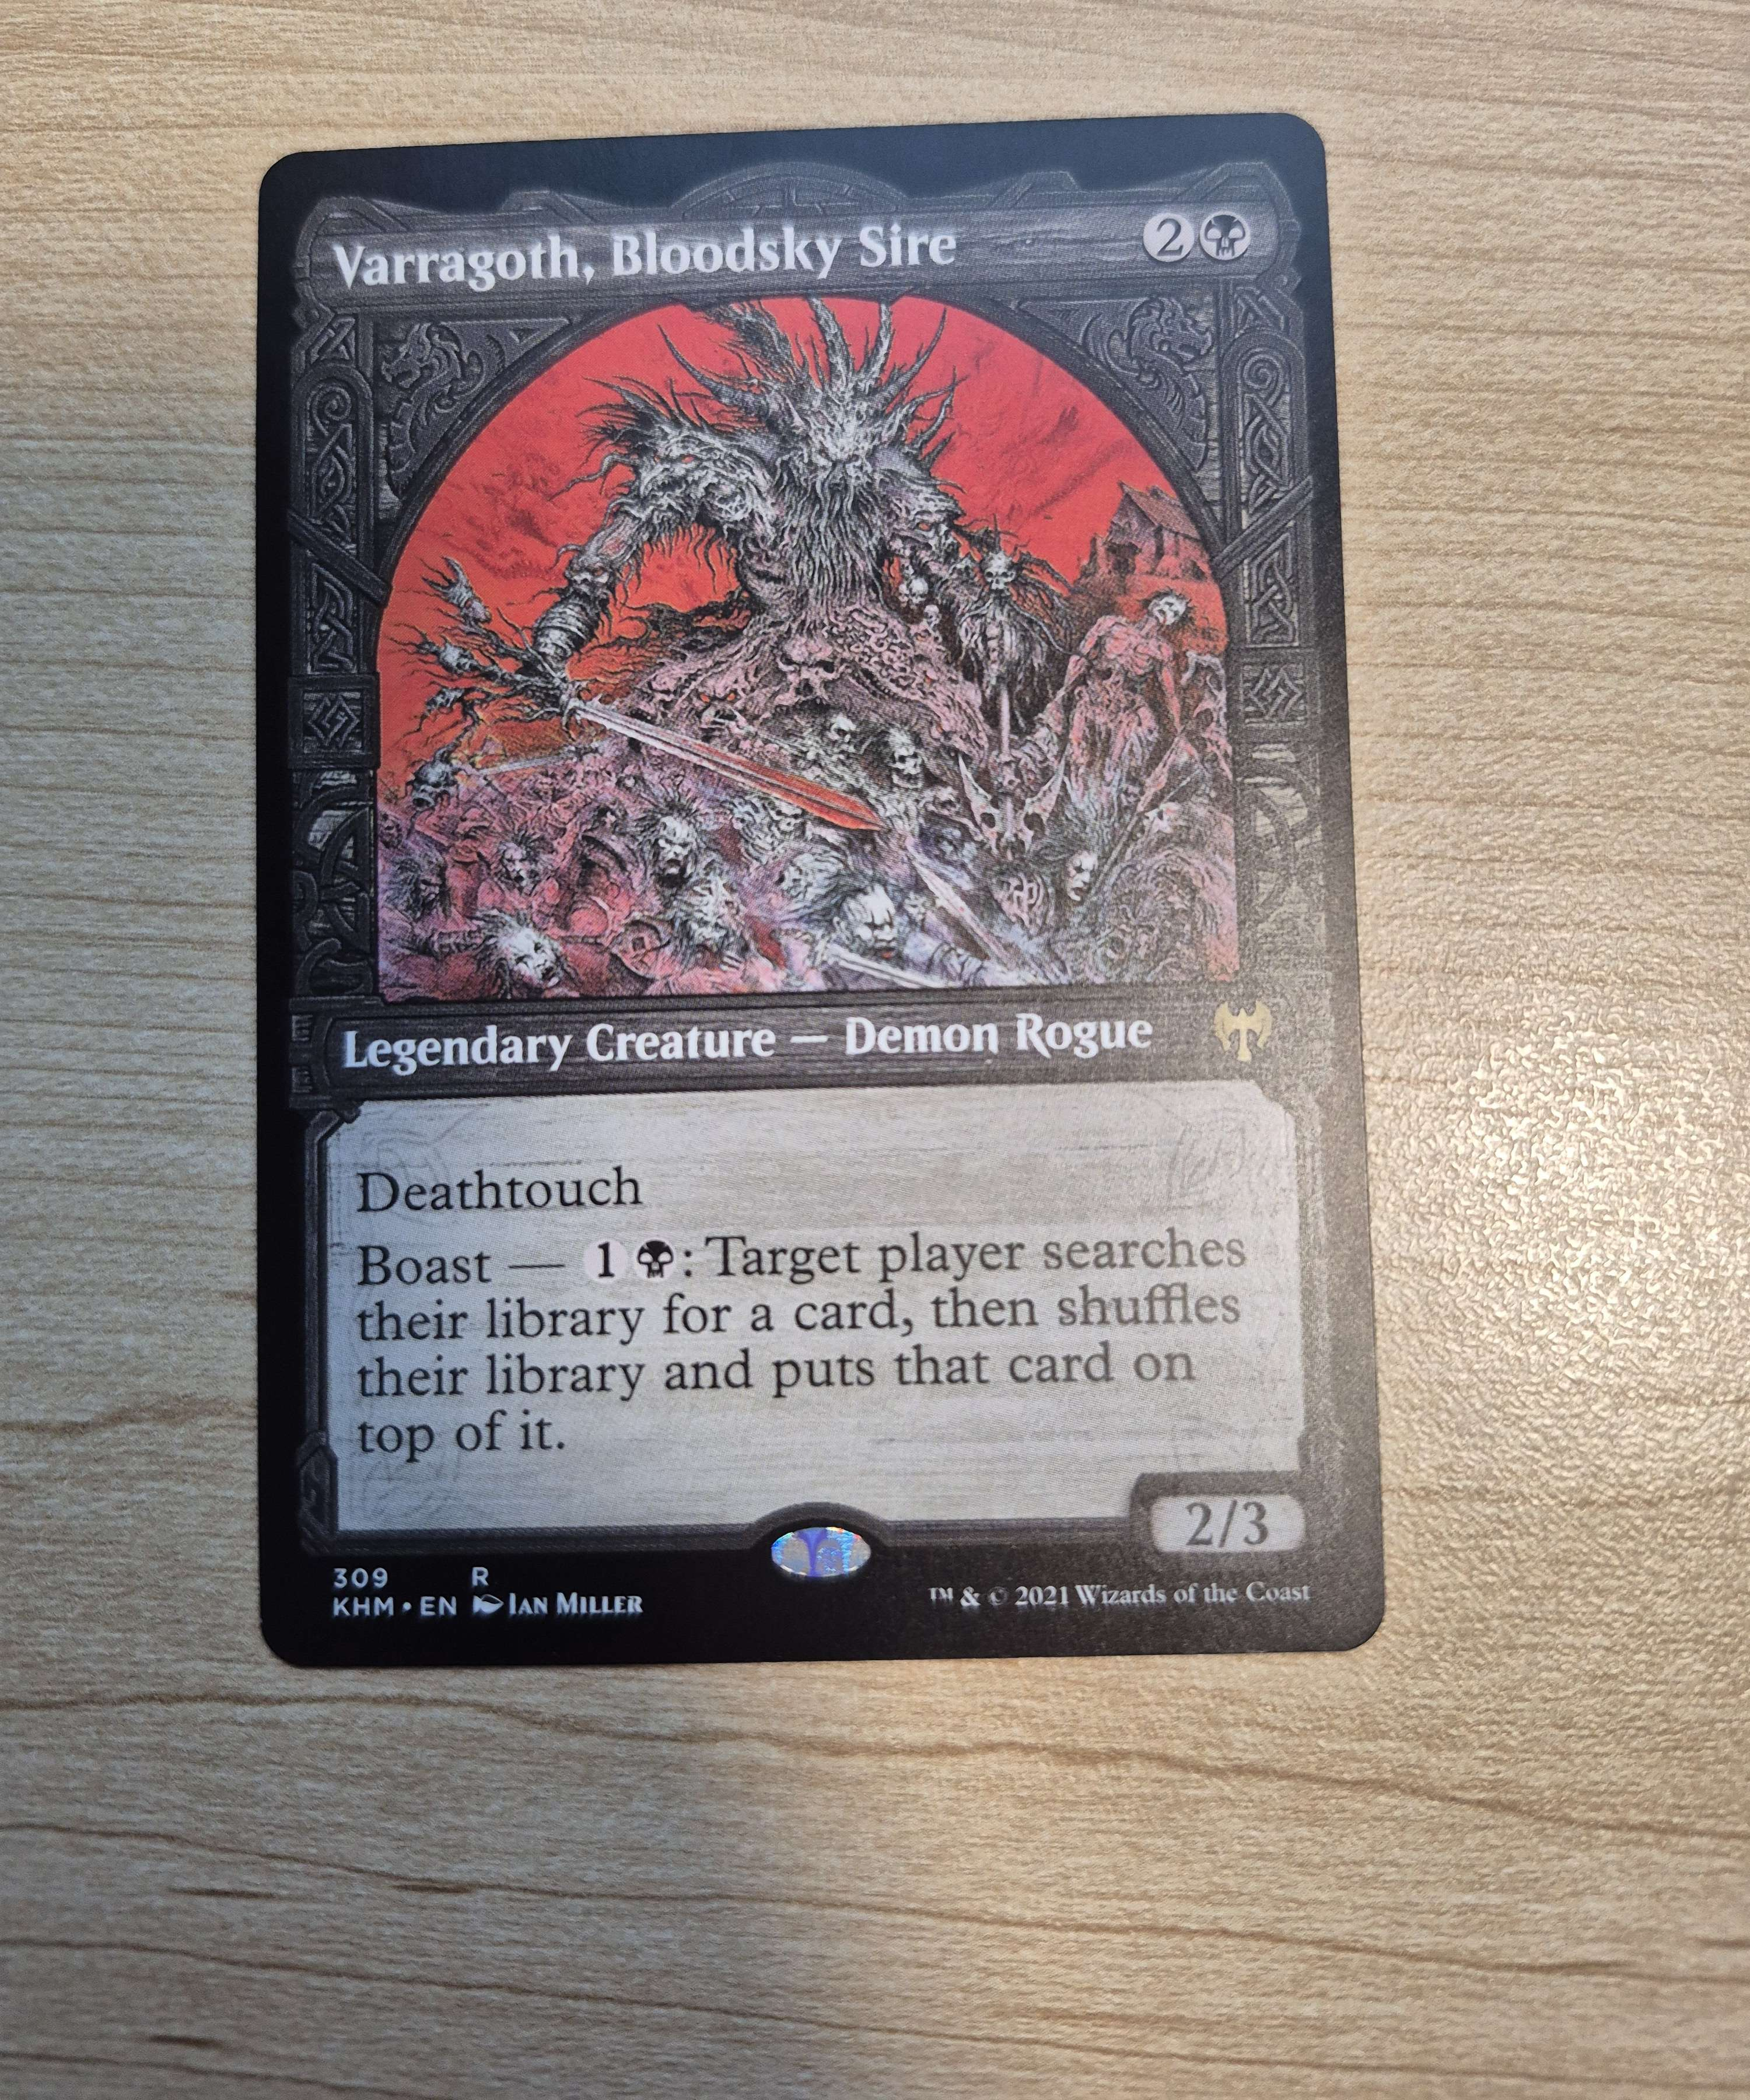mtg_card: (244, 131, 1438, 1676)
